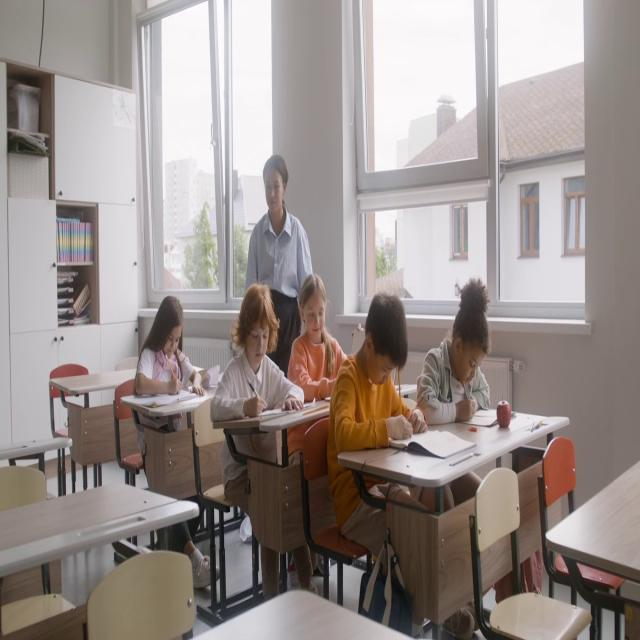reading: (286, 272, 342, 452)
writing: (331, 290, 451, 628), (213, 282, 310, 596), (134, 296, 220, 585), (417, 276, 492, 424)
